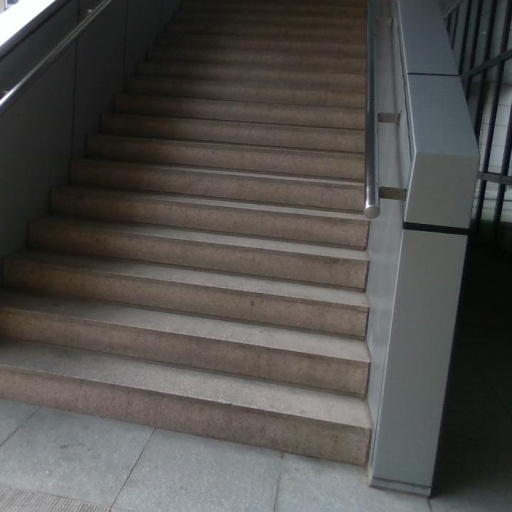Stairs: (0, 0, 368, 428)
